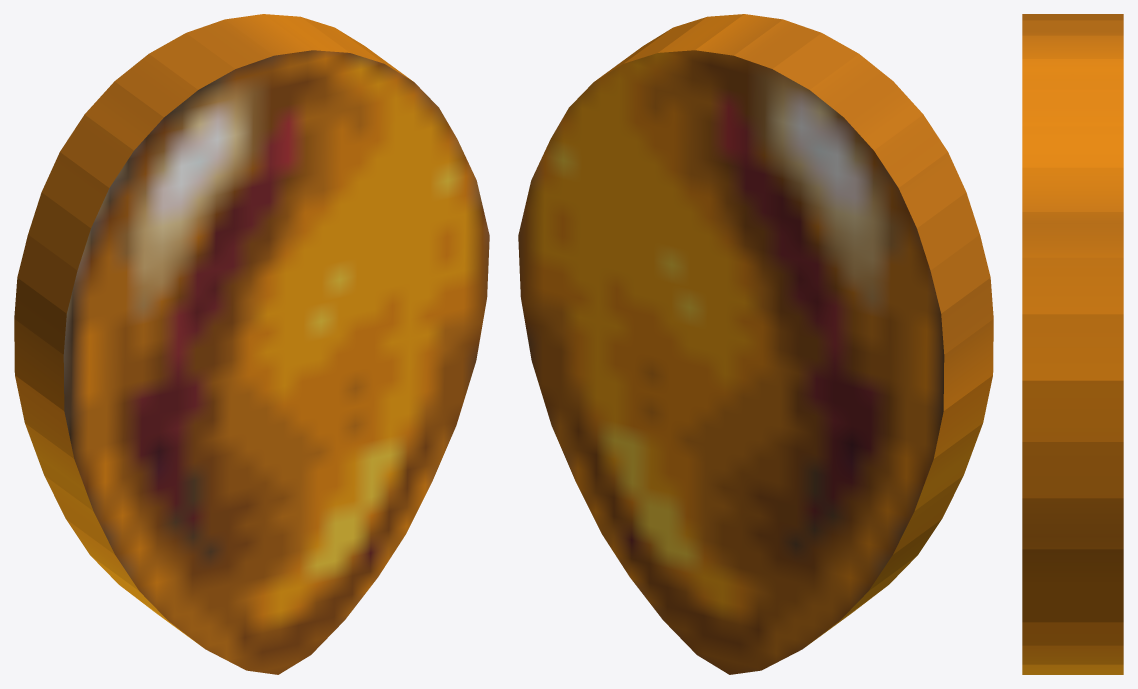
File: Rarity_Legendary.glb
The picture shows the model from 3 angles, left to right: view 1: azimuth 30°, elevation 25°; view 2: azimuth 150°, elevation 25°; view 3: azimuth 270°, elevation 25°; orthographic projection. The views are drawn at different scales.
Visible parts, largest first — view 1: Circle; view 2: Circle; view 3: Circle.
Part boxes in pixels (x1=…): Circle: x1=14, y1=14, x2=489, y2=674; Circle: x1=518, y1=14, x2=993, y2=674; Circle: x1=1022, y1=14, x2=1123, y2=674.
Bounding box in the file's own units: 0.4969 × 0.6914 × 0.1.
Materials: 1 (1 with a texture image).
